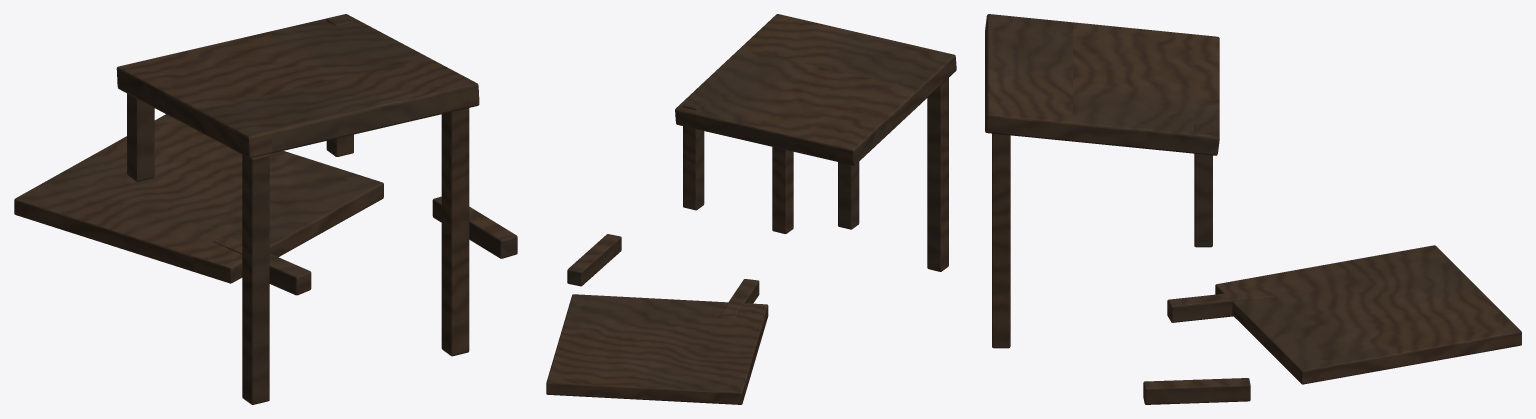
File: BR01_broken_chair_v3.glb
The picture shows the model from 3 angles, left to right: view 1: azimuth 30°, elevation 25°; view 2: azimuth 150°, elevation 25°; view 3: azimuth 270°, elevation 25°; orthographic projection. The views are drawn at different scales.
Visible parts, largest first — view 1: BR01_broken_chair_v3; view 2: BR01_broken_chair_v3; view 3: BR01_broken_chair_v3.
Part boxes in pixels (<box>): BR01_broken_chair_v3: <box>14,14,517,404</box>; BR01_broken_chair_v3: <box>546,14,956,404</box>; BR01_broken_chair_v3: <box>985,14,1521,404</box>.
Size of the model in its own units: 0.6122 by 0.4429 by 0.9.
Materials: 1 (1 with a texture image).
